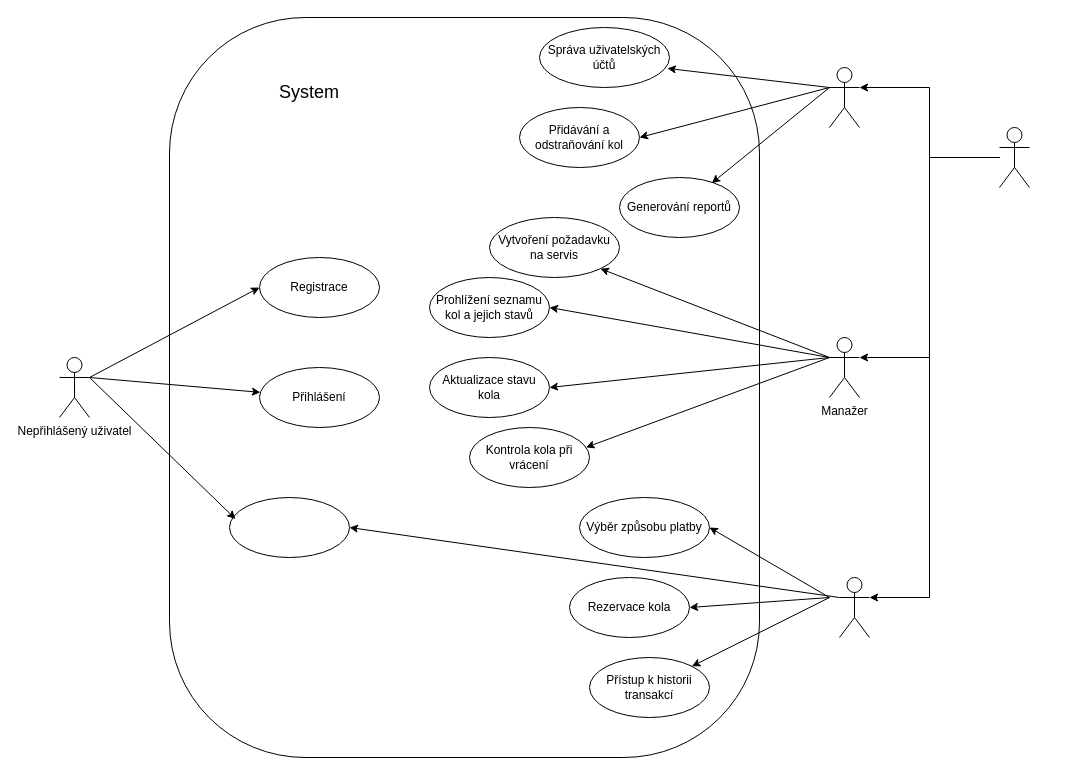
This 1081x775 diagram has some shape labels left out. Each missing label, with the box of its shape:
Administrátor: (828, 66, 860, 128)
Prohlížení dostupných kol: (228, 496, 350, 558)
Přihlášený uživatel: (998, 126, 1030, 188)
Zákazník: (838, 576, 870, 638)
